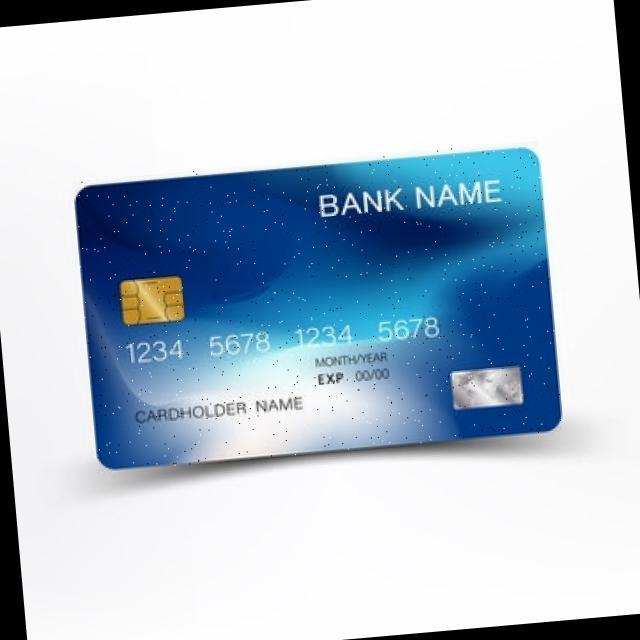payment_card: (74, 146, 563, 470)
